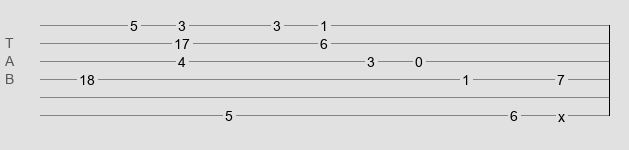0: (415, 54, 423, 64)
1: (320, 18, 328, 28), (462, 72, 470, 82)
17: (174, 36, 190, 46)
18: (79, 72, 95, 82)
3: (178, 18, 186, 28), (273, 18, 281, 28), (367, 54, 375, 64)
4: (178, 54, 186, 64)
5: (130, 18, 138, 28), (225, 108, 233, 118)
6: (320, 36, 328, 46), (510, 108, 518, 118)
7: (557, 72, 565, 82)
x: (558, 109, 565, 117)
